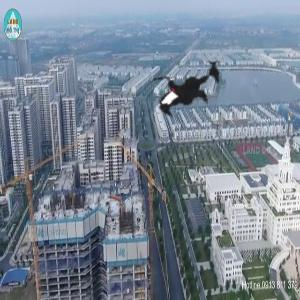drone: (129, 25, 247, 143)
